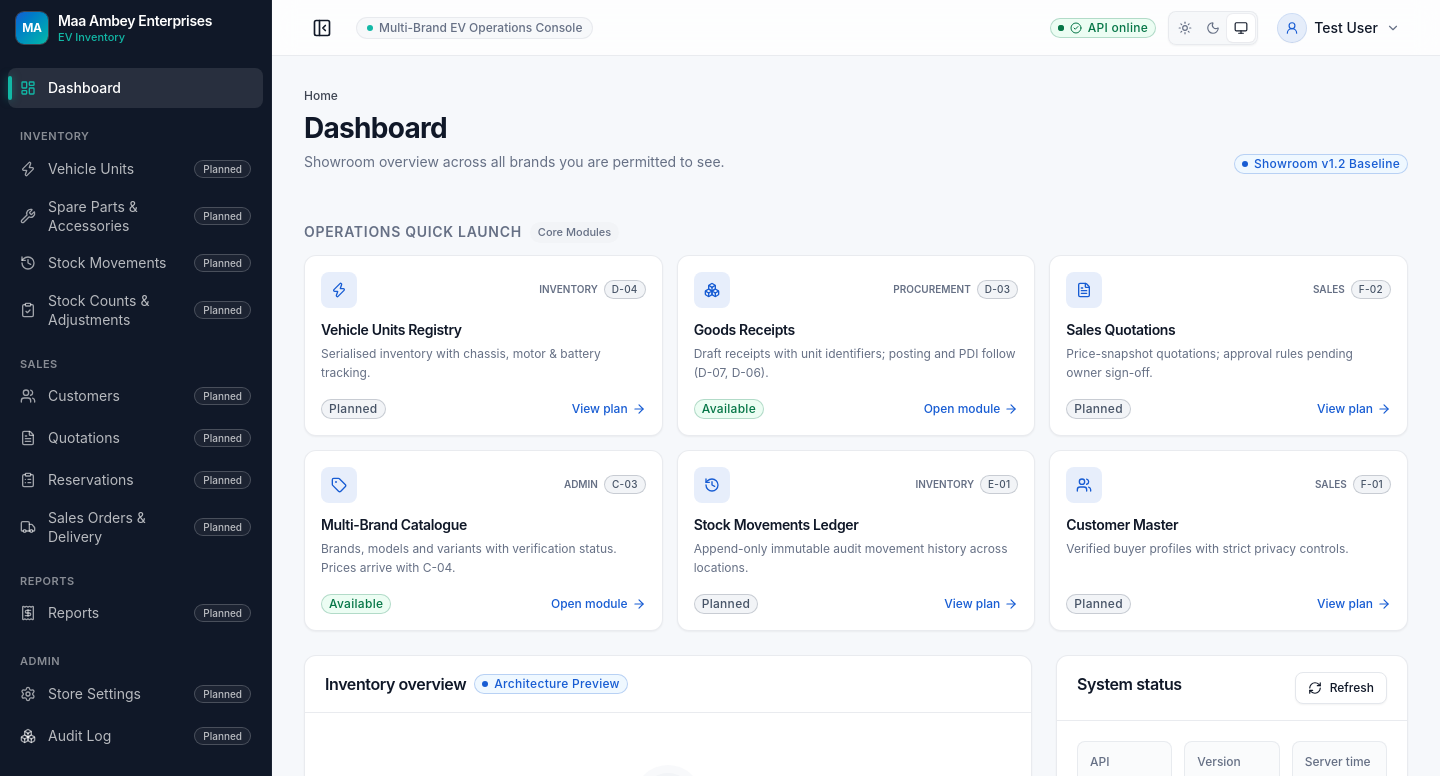
Scenario: readiness check failures › does not keep showing a cached "Ready" after a failed refresh
Click the button "Refresh".
click(1341, 688)  # box [1295,672,1387,704]
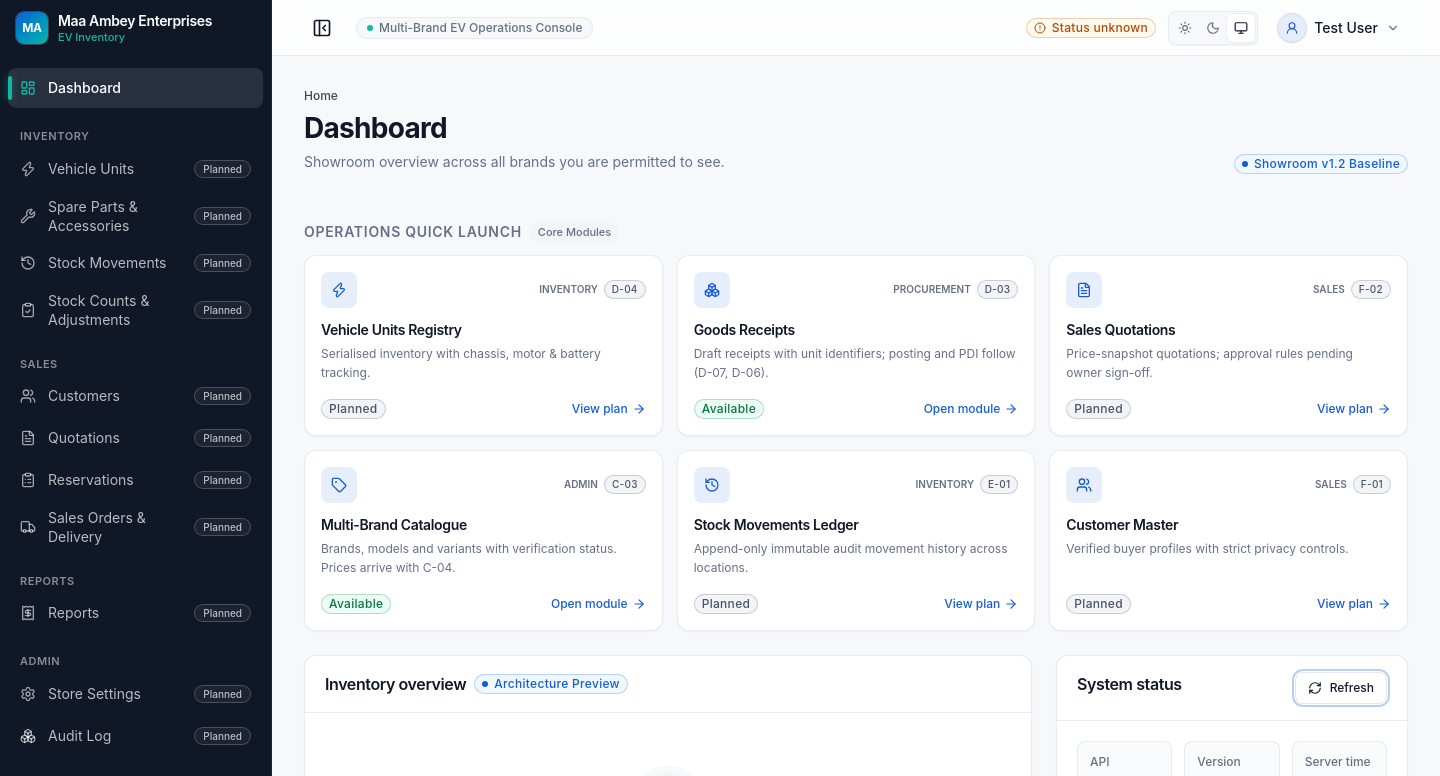
Check: the text "Status unknown" is shown, box [1052,20,1148,36]
